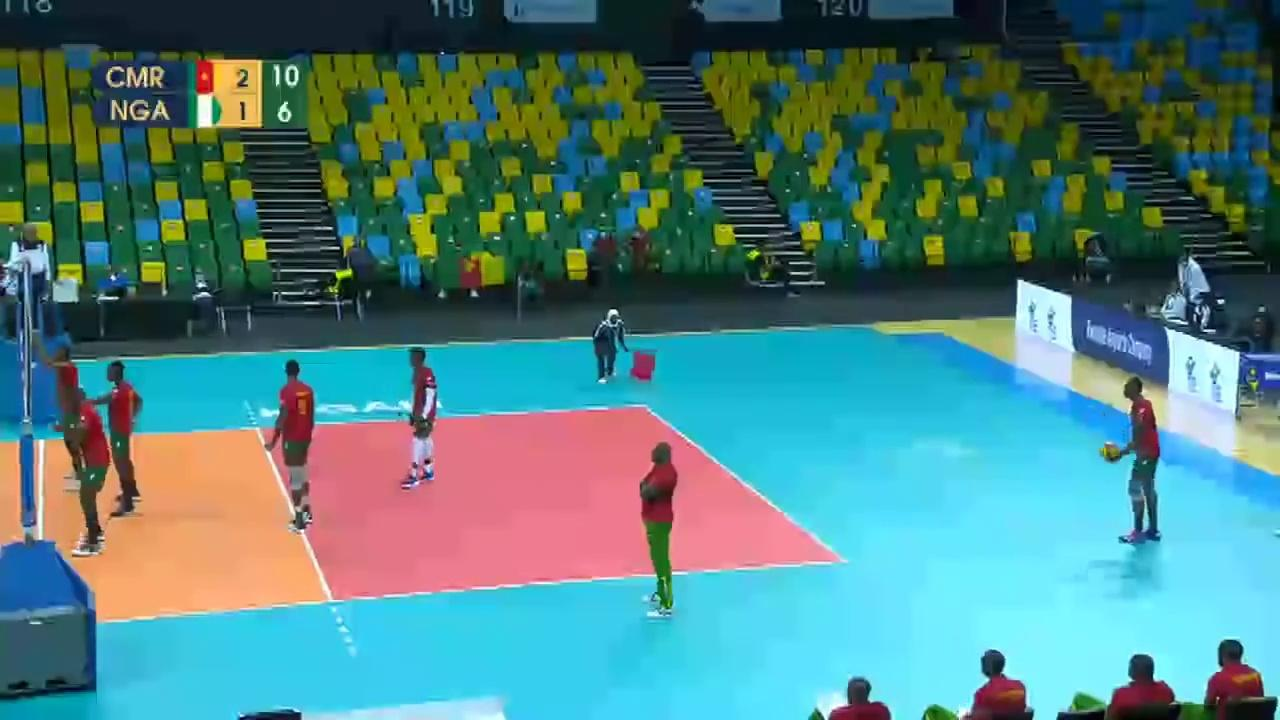player: (1107, 376, 1167, 538), (267, 363, 320, 528), (106, 361, 159, 524), (63, 387, 110, 556), (50, 342, 98, 489), (405, 350, 443, 487)
refree: (12, 220, 52, 324), (592, 308, 625, 385)
